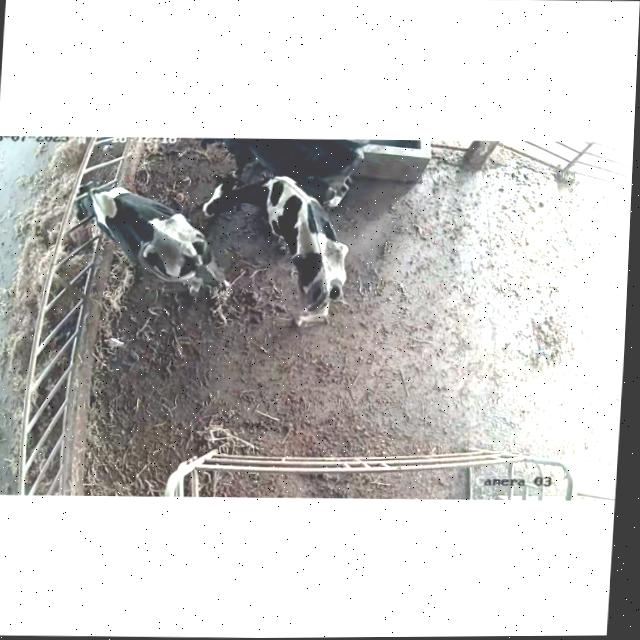stand: (188, 173, 369, 335), (186, 135, 364, 192)
